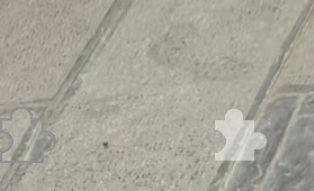target: (212, 109, 270, 163)
